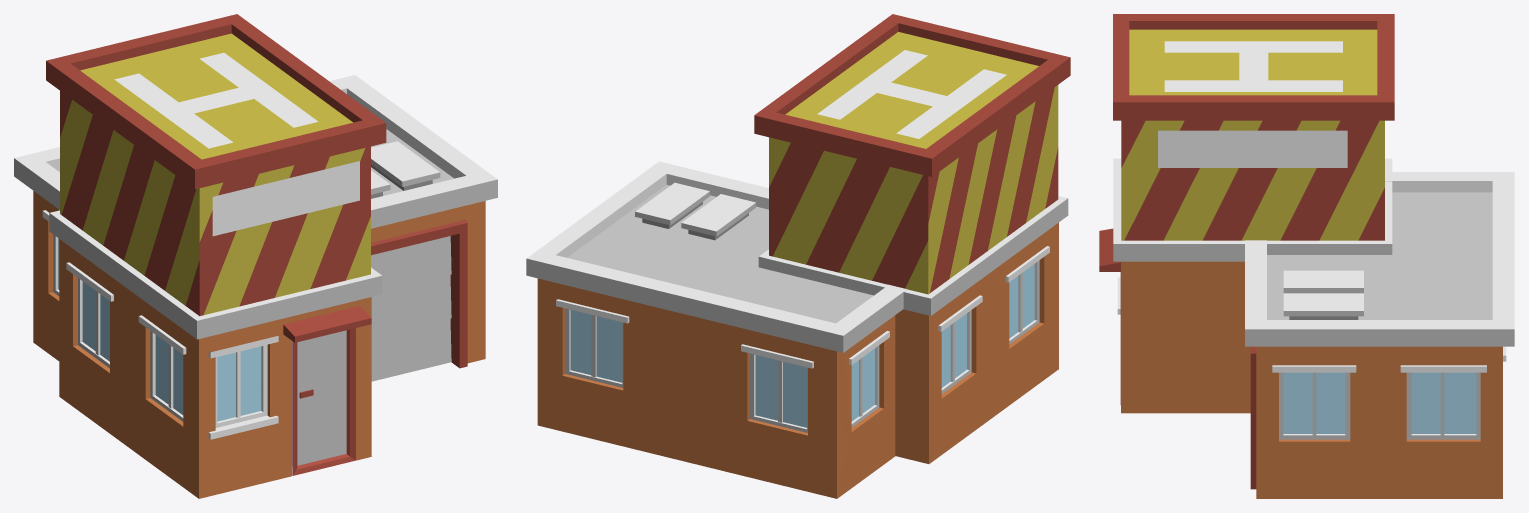
File: house_purpose_006.fbx
3 views of the same model, side by side, from view 1: azimuth 30°, elevation 25°; view 2: azimuth 150°, elevation 25°; view 3: azimuth 270°, elevation 25° (orthographic). The views are drawn at different scales.
Visible parts, largest first — view 1: house_purpose_006; view 2: house_purpose_006; view 3: house_purpose_006.
Boxes of the visible parts, bbox=[...] form: house_purpose_006: bbox=[14, 14, 497, 498]; house_purpose_006: bbox=[526, 14, 1070, 498]; house_purpose_006: bbox=[1099, 14, 1514, 498].
Size of the model in its own units: 741 by 636 by 757.
